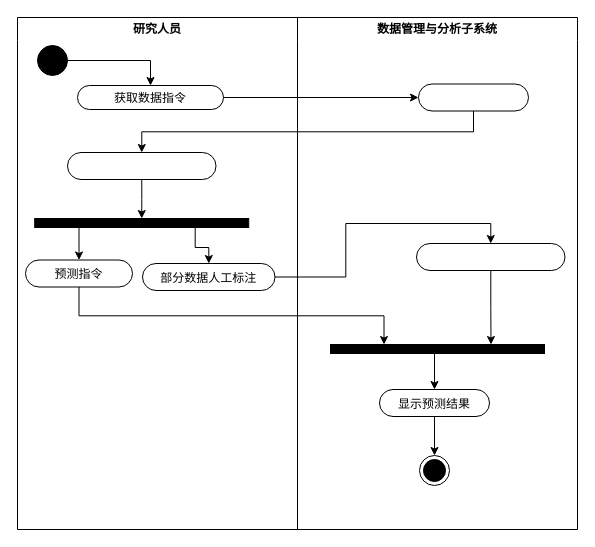
The diagram is 595 pixels wide and 547 high, and some of its shapes have lost their labels. The centre of each missing label's shape, as x and y in pixels:
"历史数据分析" goes at pixel 141 166.
"模型训练" goes at pixel 490 256.
"获取历史数据" goes at pixel 473 97.
